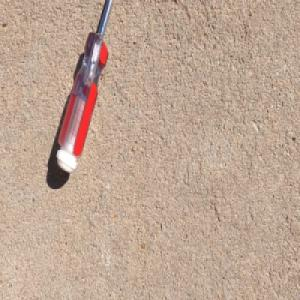Screwdriver: (56, 0, 117, 176)
